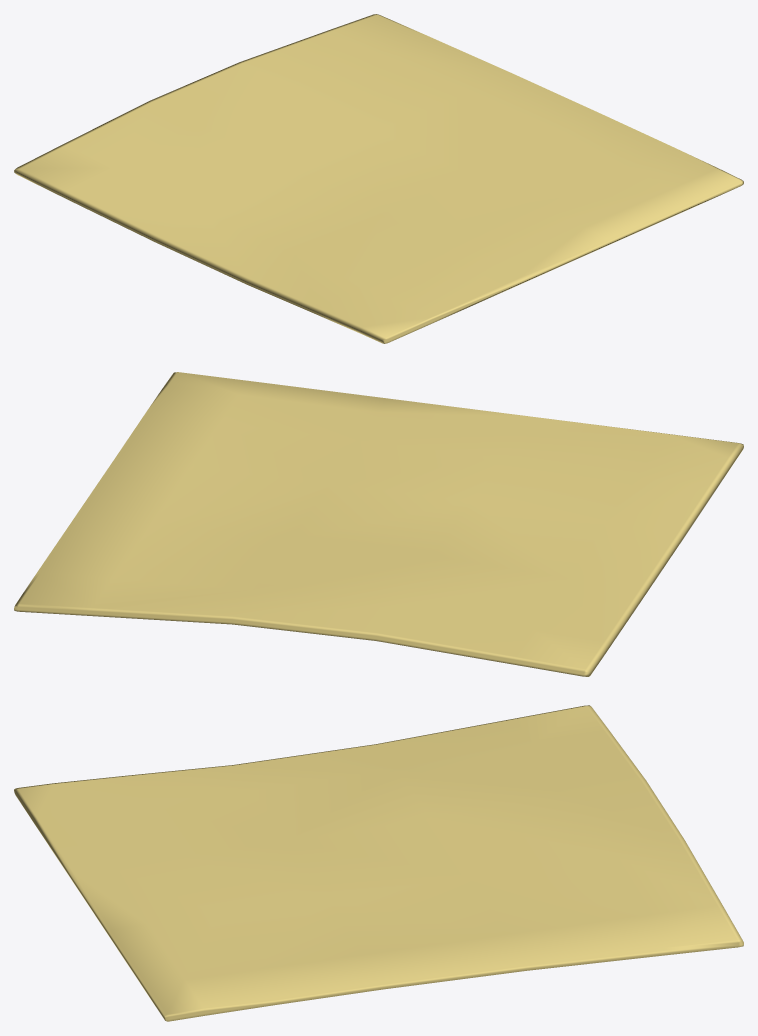
Rendered from postit_animation.fbx.
3 renders of one model, top to bottom at view 1: azimuth 30°, elevation 25°; view 2: azimuth 150°, elevation 25°; view 3: azimuth 270°, elevation 25°, orthographic. The views are drawn at different scales.
Visible parts, largest first — view 1: memo5; view 2: memo5; view 3: memo5.
Boxes of the visible parts, x1=… form: memo5: x1=14, y1=14, x2=743, y2=343; memo5: x1=14, y1=372, x2=743, y2=676; memo5: x1=14, y1=705, x2=743, y2=1021.
Size of the model in its own units: 9.09 by 0.5173 by 9.25.
